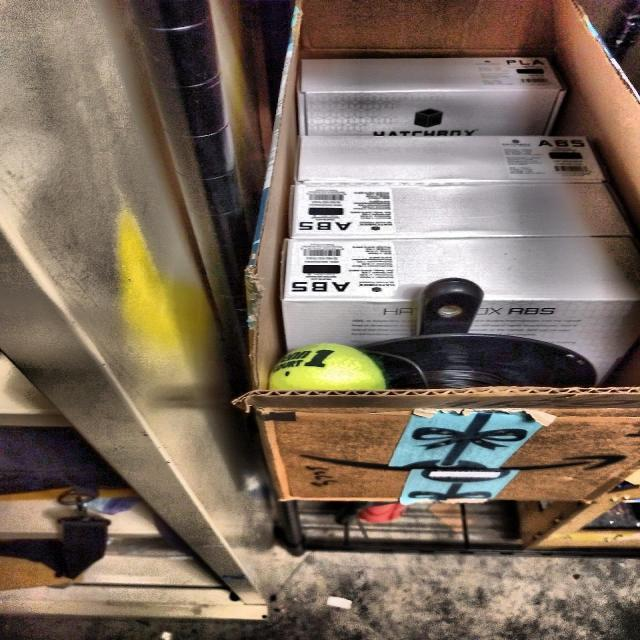tennis-ball: (264, 335, 394, 427)
